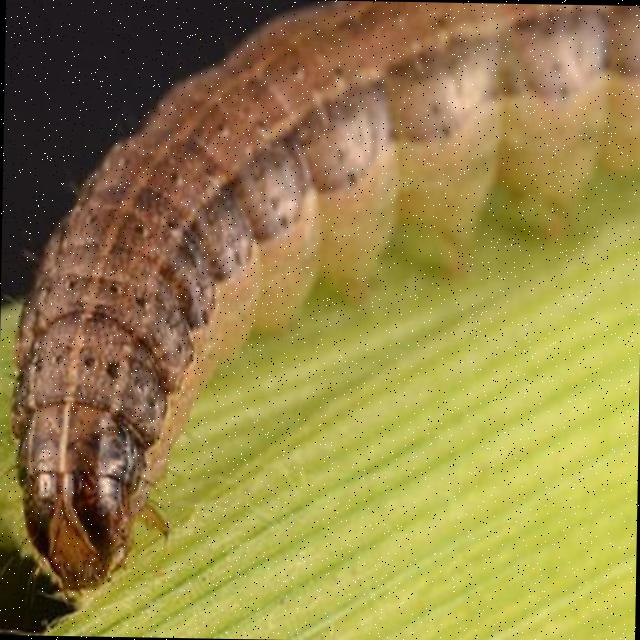worm: (1, 1, 640, 613)
